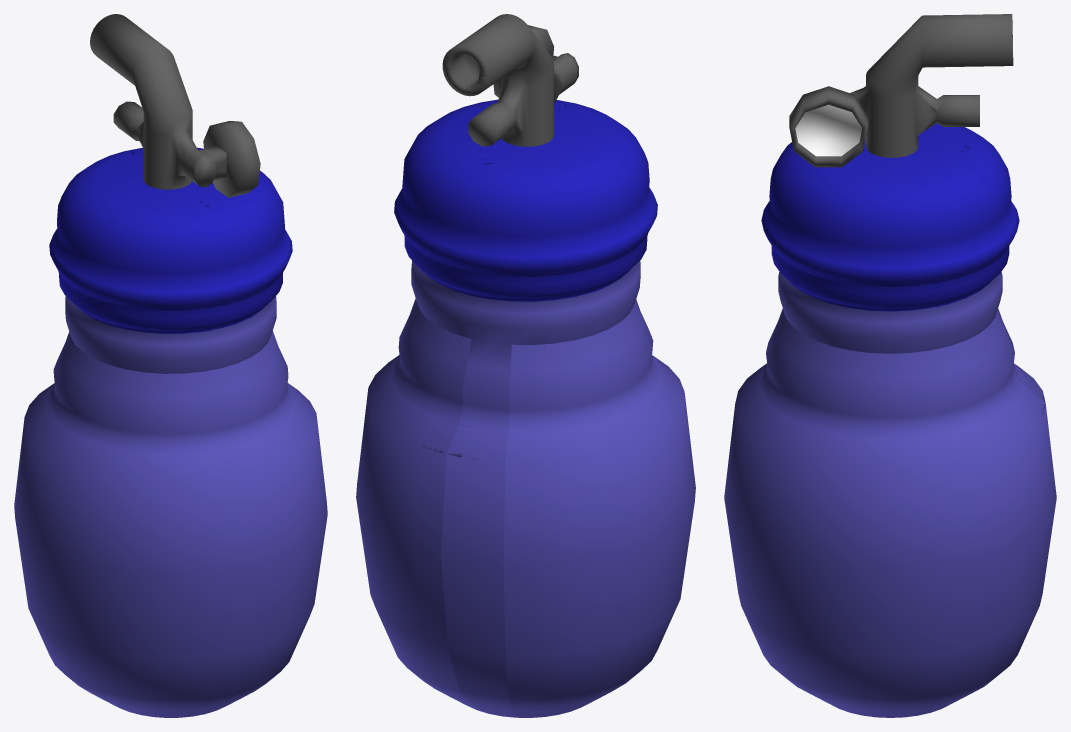
Rendered from Curveball.fbx.
3 renders of one model, left to right at view 1: azimuth 30°, elevation 25°; view 2: azimuth 150°, elevation 25°; view 3: azimuth 270°, elevation 25°, orthographic. The views are drawn at different scales.
Visible parts, largest first — view 1: Cryo Bomb; view 2: Cryo Bomb; view 3: Cryo Bomb.
Boxes of the visible parts, x1,y1,x2,y2 form: Cryo Bomb: [14, 14, 327, 717]; Cryo Bomb: [356, 14, 695, 717]; Cryo Bomb: [724, 14, 1056, 717].
Size of the model in its own units: 223 by 506 by 223.
1 material, 1 textured.
